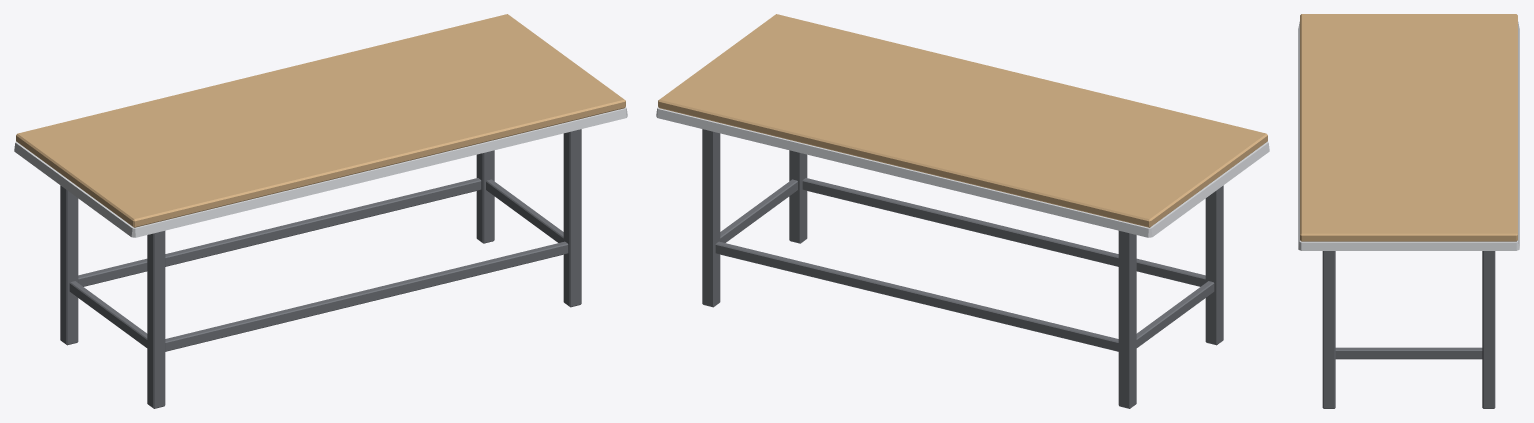
Rendered from village-hall-and-community-events-trestle-table-6cb6b682.glb.
The picture shows the model from 3 angles, left to right: view 1: azimuth 30°, elevation 25°; view 2: azimuth 150°, elevation 25°; view 3: azimuth 270°, elevation 25°; orthographic projection. The views are drawn at different scales.
Parts seen in each view (by area): view 1: trestle-table; view 2: trestle-table; view 3: trestle-table.
Part boxes in pixels (left/top/right/bottom): trestle-table: left=14, top=14, right=627, bottom=408; trestle-table: left=656, top=14, right=1269, bottom=408; trestle-table: left=1298, top=14, right=1519, bottom=408.
Bounding box in the file's own units: 1.81 × 0.72 × 0.7621.
